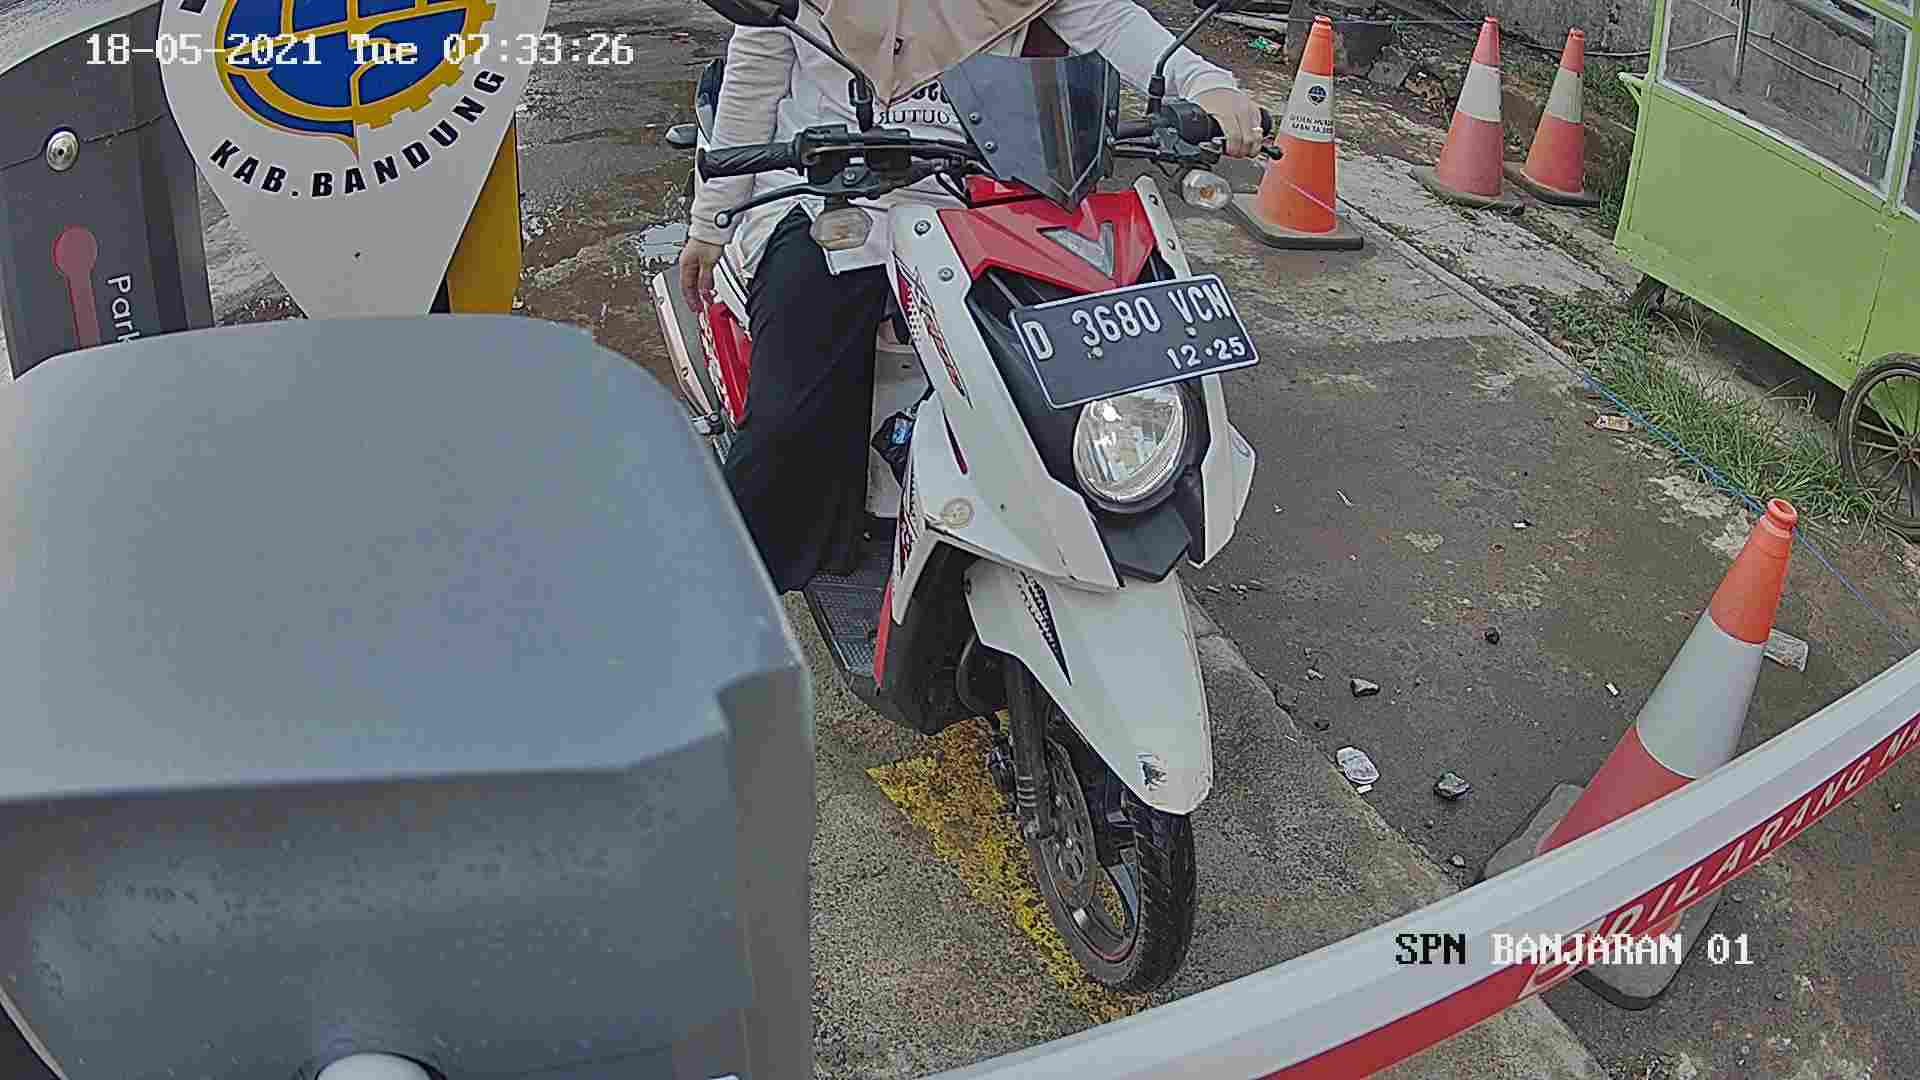motor: (662, 127, 1327, 980)
